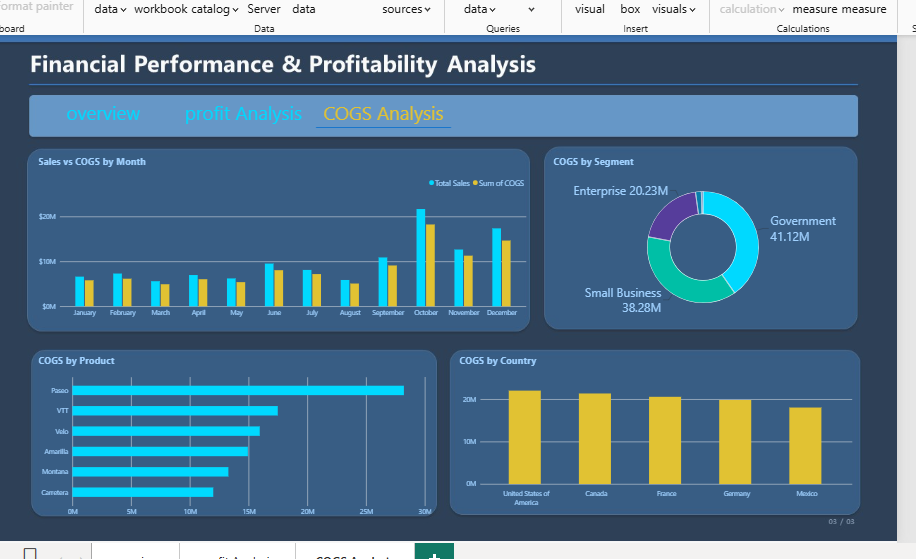

What the dashboard file says about the page in this screenshot:
{"tool":"powerbi","page":{"name":"COGS Analysis","canvas":[1920,1080],"ordinal":2},"visuals":[{"type":"clusteredBarChart","title":"COGS by Product","fields":{"Category":["Product.Product"],"Y":["Sum(financials.COGS)"]},"box":[78.7,663.3,867.4,380.6],"z":0},{"type":"donutChart","title":"COGS by Segment","fields":{"Category":["Segment.Segment"],"Y":["Sum(financials.COGS)"]},"box":[1173.5,240.2,667.6,380.6],"z":1000},{"type":"clusteredColumnChart","title":"COGS by Country","fields":{"Category":["Country.Country"],"Y":["Sum(financials.COGS)"]},"box":[973.7,663.3,867.4,359.3],"z":2000},{"type":"clusteredColumnChart","title":"Sales vs COGS by Month","fields":{"Category":["Date.Date.Variation.Date Hierarchy.Month"],"Y":["calculated.Total Sales","Sum(financials.COGS)"]},"box":[61.7,240.2,1092.8,380.6],"z":3000},{"type":"pageNavigator","box":[86.7,131.7,886.7,66.7],"z":4000}]}

Visuals, with their boxes on the page's 1920x1080 design canvas (x1, y1, x2, y2). These are canvas units, not pixel positions in the 916x559 screenshot, which may show the page scaled, cropped or inside an application window:
"COGS by Product" clusteredBarChart: (left=79, top=663, right=946, bottom=1044)
"COGS by Segment" donutChart: (left=1174, top=240, right=1841, bottom=621)
"COGS by Country" clusteredColumnChart: (left=974, top=663, right=1841, bottom=1023)
"Sales vs COGS by Month" clusteredColumnChart: (left=62, top=240, right=1154, bottom=621)
pageNavigator: (left=87, top=132, right=973, bottom=198)
